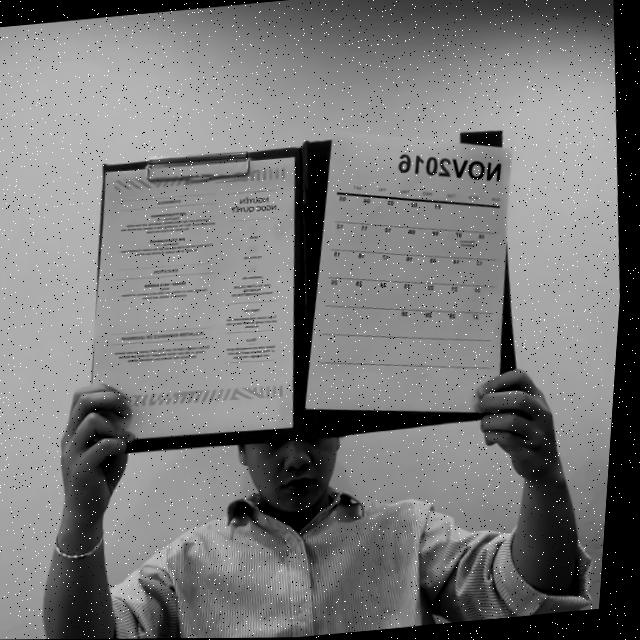document: (304, 131, 512, 413), (91, 157, 294, 440)
